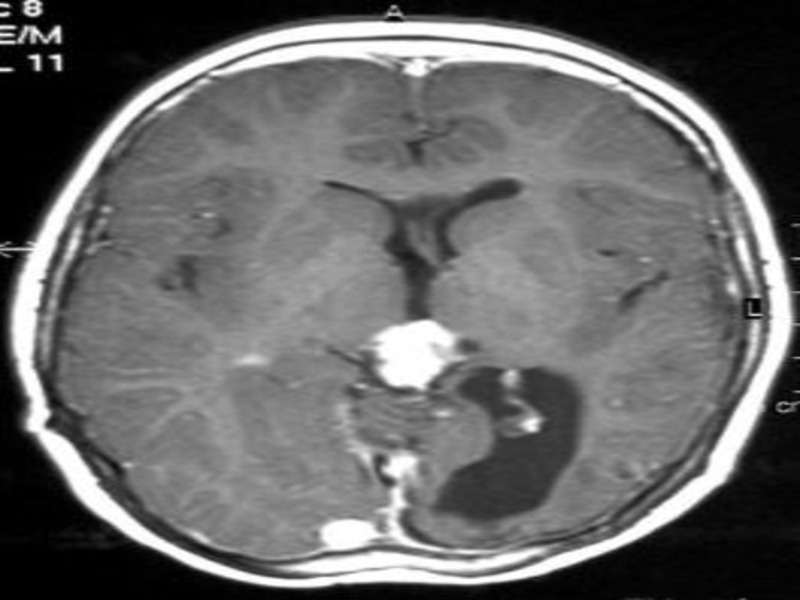tumor: (363, 314, 471, 397)
